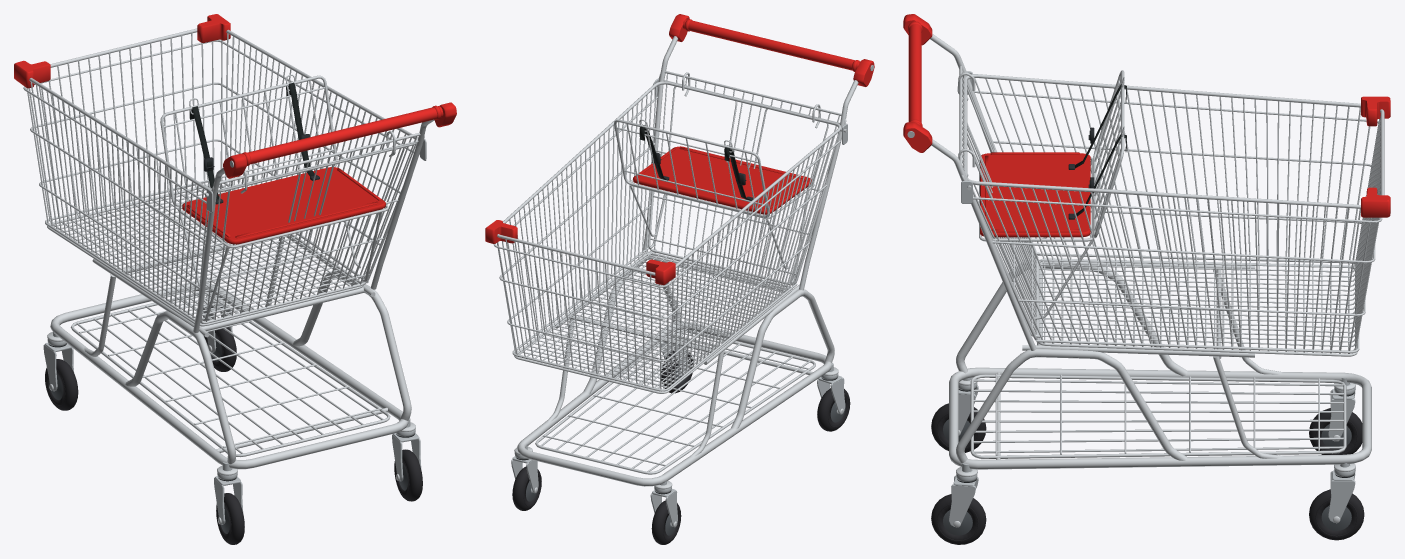
The model's file is shopping_cart.glb.
3 views of the same model, side by side, from view 1: azimuth 30°, elevation 25°; view 2: azimuth 150°, elevation 25°; view 3: azimuth 270°, elevation 25° (orthographic). The views are drawn at different scales.
Parts seen in each view (by area): view 1: Basket_Wire__Basket_wire_steel, Tubular_Chassis__Polished_galvanized_steel, Child_Seat_Panel__Red_seat_plastic, Lower_Luggage_Rack__Basket_wire_steel, Hinged_Rear_Gate__Basket_wire_steel, Basket_Rim__Polished_galvanized_steel, Red_Handle__Red_molded_plastic, Lower_Luggage_Rack__Polished_galvanized_steel, Handle_Steel_Supports__Polished_galvanized_steel, Hinged_Rear_Gate__Polished_galvanized_steel, Child_Seat_Backrest__Basket_wire_steel, Child_Seat_Frame__Polished_galvanized_steel (+10 smaller); view 2: Basket_Wire__Basket_wire_steel, Tubular_Chassis__Polished_galvanized_steel, Child_Seat_Panel__Red_seat_plastic, Lower_Luggage_Rack__Basket_wire_steel, Basket_Rim__Polished_galvanized_steel, Hinged_Rear_Gate__Basket_wire_steel, Red_Handle__Red_molded_plastic, Handle_Steel_Supports__Polished_galvanized_steel, Lower_Luggage_Rack__Polished_galvanized_steel, Hinged_Rear_Gate__Polished_galvanized_steel, Child_Seat_Backrest__Basket_wire_steel, Child_Seat_Backrest__Polished_galvanized_steel (+9 smaller); view 3: Basket_Wire__Basket_wire_steel, Tubular_Chassis__Polished_galvanized_steel, Lower_Luggage_Rack__Basket_wire_steel, Child_Seat_Panel__Red_seat_plastic, Basket_Rim__Polished_galvanized_steel, Lower_Luggage_Rack__Polished_galvanized_steel, Hinged_Rear_Gate__Basket_wire_steel, Red_Handle__Red_molded_plastic, Handle_Steel_Supports__Polished_galvanized_steel, Red_Basket_Guards__Red_molded_plastic, Wheel_Front_Left__Wheel_Prototype__Dark_rubber_tires, Wheel_Rear_Left__Wheel_Prototype__Dark_rubber_tires (+10 smaller).
Boxes of the visible parts, x1=… form: Basket_Wire__Basket_wire_steel: x1=23, y1=32, x2=416, y2=323; Tubular_Chassis__Polished_galvanized_steel: x1=50, y1=236, x2=411, y2=469; Child_Seat_Panel__Red_seat_plastic: x1=182, y1=167, x2=385, y2=244; Lower_Luggage_Rack__Basket_wire_steel: x1=76, y1=293, x2=383, y2=453; Hinged_Rear_Gate__Basket_wire_steel: x1=202, y1=136, x2=418, y2=321; Basket_Rim__Polished_galvanized_steel: x1=29, y1=28, x2=417, y2=326; Red_Handle__Red_molded_plastic: x1=223, y1=102, x2=456, y2=178; Lower_Luggage_Rack__Polished_galvanized_steel: x1=70, y1=292, x2=390, y2=457; Handle_Steel_Supports__Polished_galvanized_steel: x1=193, y1=119, x2=434, y2=332; Hinged_Rear_Gate__Polished_galvanized_steel: x1=200, y1=131, x2=424, y2=323; Child_Seat_Backrest__Basket_wire_steel: x1=164, y1=80, x2=334, y2=201; Child_Seat_Frame__Polished_galvanized_steel: x1=177, y1=204, x2=388, y2=321; Basket_Wire__Basket_wire_steel: x1=493, y1=86, x2=840, y2=391; Tubular_Chassis__Polished_galvanized_steel: x1=517, y1=249, x2=834, y2=486; Child_Seat_Panel__Red_seat_plastic: x1=633, y1=146, x2=811, y2=214; Lower_Luggage_Rack__Basket_wire_steel: x1=540, y1=331, x2=810, y2=471; Basket_Rim__Polished_galvanized_steel: x1=497, y1=81, x2=841, y2=393; Hinged_Rear_Gate__Basket_wire_steel: x1=650, y1=73, x2=840, y2=282; Red_Handle__Red_molded_plastic: x1=669, y1=14, x2=874, y2=86; Handle_Steel_Supports__Polished_galvanized_steel: x1=643, y1=36, x2=858, y2=290; Lower_Luggage_Rack__Polished_galvanized_steel: x1=535, y1=329, x2=815, y2=474; Hinged_Rear_Gate__Polished_galvanized_steel: x1=648, y1=71, x2=846, y2=285; Child_Seat_Backrest__Basket_wire_steel: x1=616, y1=124, x2=765, y2=213; Child_Seat_Backrest__Polished_galvanized_steel: x1=614, y1=119, x2=769, y2=217; Basket_Wire__Basket_wire_steel: x1=973, y1=78, x2=1382, y2=353; Tubular_Chassis__Polished_galvanized_steel: x1=949, y1=260, x2=1371, y2=469; Lower_Luggage_Rack__Basket_wire_steel: x1=973, y1=373, x2=1343, y2=455; Child_Seat_Panel__Red_seat_plastic: x1=980, y1=152, x2=1090, y2=237; Basket_Rim__Polished_galvanized_steel: x1=963, y1=74, x2=1384, y2=356; Lower_Luggage_Rack__Polished_galvanized_steel: x1=970, y1=374, x2=1346, y2=458; Hinged_Rear_Gate__Basket_wire_steel: x1=962, y1=70, x2=1036, y2=334; Red_Handle__Red_molded_plastic: x1=903, y1=14, x2=932, y2=152; Handle_Steel_Supports__Polished_galvanized_steel: x1=930, y1=34, x2=1036, y2=350; Red_Basket_Guards__Red_molded_plastic: x1=1361, y1=96, x2=1390, y2=217; Wheel_Front_Left__Wheel_Prototype__Dark_rubber_tires: x1=1309, y1=489, x2=1364, y2=540; Wheel_Rear_Left__Wheel_Prototype__Dark_rubber_tires: x1=931, y1=494, x2=986, y2=544.
Size of the model in its own units: 0.661 by 1.15 by 1.19.
